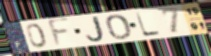0: (25, 23, 48, 49)
7: (160, 7, 181, 35)
F: (47, 16, 72, 50)
J: (84, 15, 106, 44)
L: (134, 11, 163, 38)
O: (104, 13, 133, 41)
